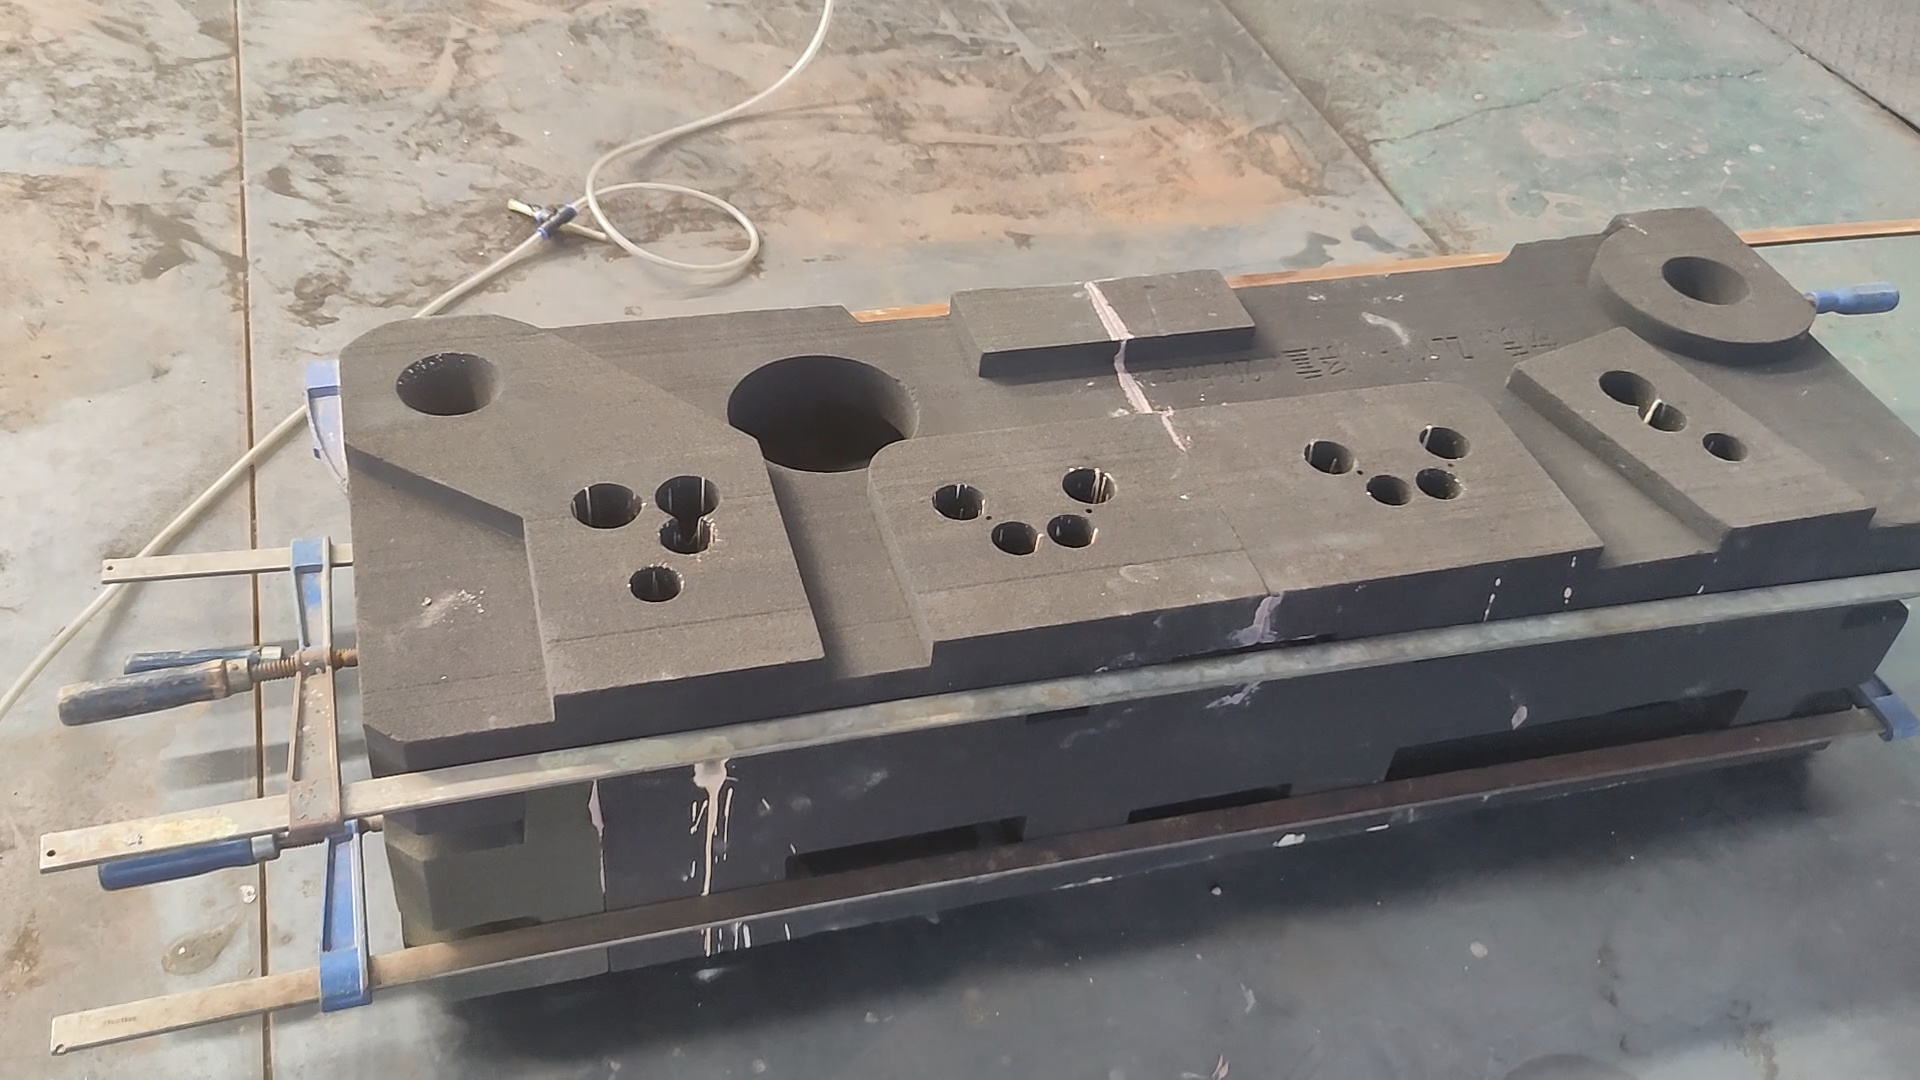pouring hole: (396, 352, 501, 415), (1662, 255, 1750, 305)
